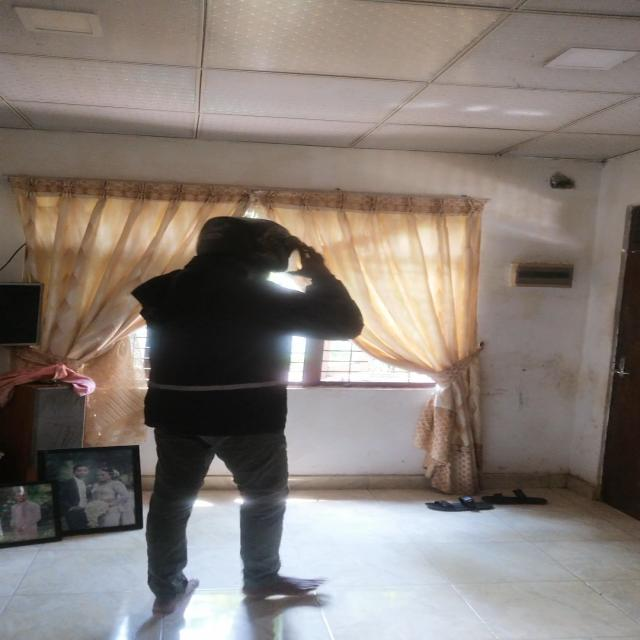Helmet_Wearer: (174, 208, 310, 302)
Jacket_Wearer: (132, 260, 360, 469)
Person: (130, 209, 358, 640)
